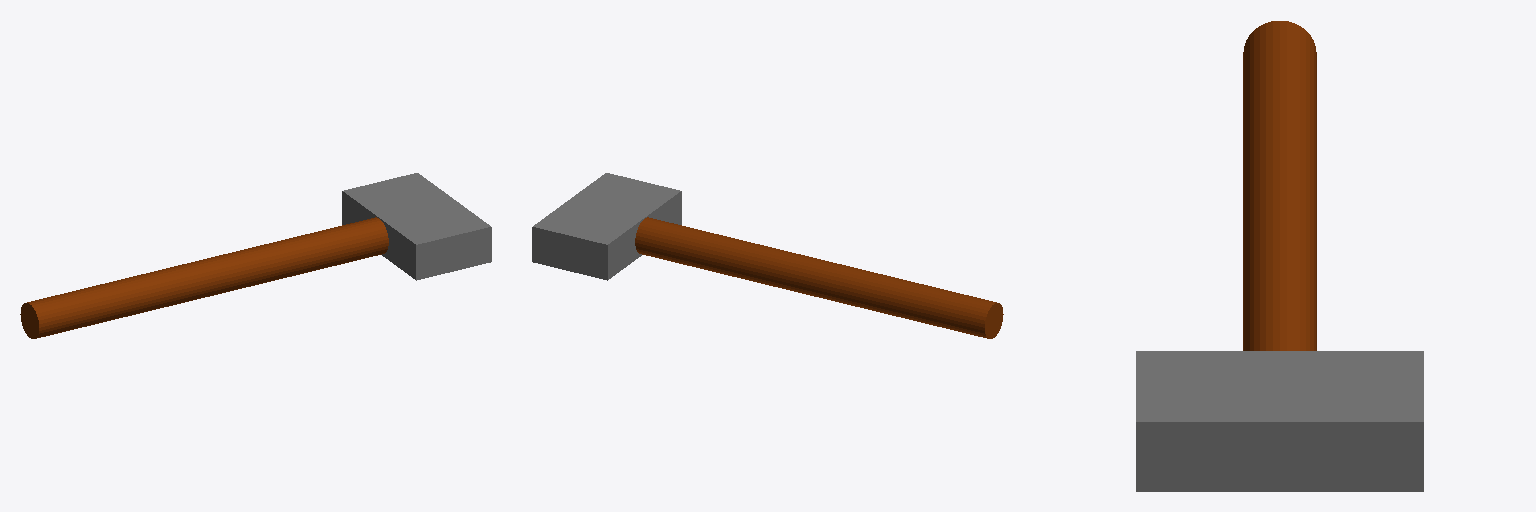
robot.urdf — handle_head:
<?xml version="1.0"?>
<robot name="handle_head">

  <link name="handle_head">
    <!-- Handle -->
    <visual>
              <origin xyz="0 0 0" rpy="0 -1.5707963267948966 0"/>
        <geometry>
          <cylinder length="0.2698907803249839" radius="0.012598816345686074"/>
        </geometry>
        
      <material name="brown">
        <color rgba="0.55 0.27 0.07 1.0"/>
      </material>
    </visual>
    <collision>
              <origin xyz="0 0 0" rpy="0 -1.5707963267948966 0"/>
        <geometry>
          <cylinder length="0.2698907803249839" radius="0.012598816345686074"/>
        </geometry>
        
    </collision>

    <!-- Head -->
    <visual>
              <origin xyz="0.1639773697838312 0 0" rpy="0 0 0"/>
        <geometry>
          <box size="0.0580639592426785 0.09883710901106989 0.026272570878944364"/>
        </geometry>
        
      <material name="gray">
        <color rgba="0.5 0.5 0.5 1.0"/>
      </material>
    </visual>
    <collision>
              <origin xyz="0.1639773697838312 0 0" rpy="0 0 0"/>
        <geometry>
          <box size="0.0580639592426785 0.09883710901106989 0.026272570878944364"/>
        </geometry>
        
    </collision>

    <inertial>
      <origin xyz="0.14107383850019198 0 0" rpy="0 0 0"/>
      <mass value="0.318159635146968"/>
      <inertia ixx="0.00024205647532834663" iyy="0.0014271544508914552" izz="0.0016342361641715633" ixy="0" ixz="0" iyz="0"/>
    </inertial>
  </link>

</robot>

--- What the picture shows (computed from the rendered views, not written in the file) ---
3 views of the same robot in one strip: view 1: azimuth 30°, elevation 25°; view 2: azimuth 150°, elevation 25°; view 3: azimuth 270°, elevation 25° (orthographic).
Model handle_head with 1 links and 0 joints (none), rooted at handle_head, posed all joints at 0.
Visible links, largest first — view 1: handle_head; view 2: handle_head; view 3: handle_head.
Link boxes in pixels (x1,y1,x2,y2): handle_head: (20,173,491,338); handle_head: (532,173,1003,338); handle_head: (1136,21,1423,491).
Bounding box of the posed robot: 0.328 × 0.0988 × 0.0263 m (x, y, z).
Geometry: primitives only (box / cylinder / sphere), no mesh files.
